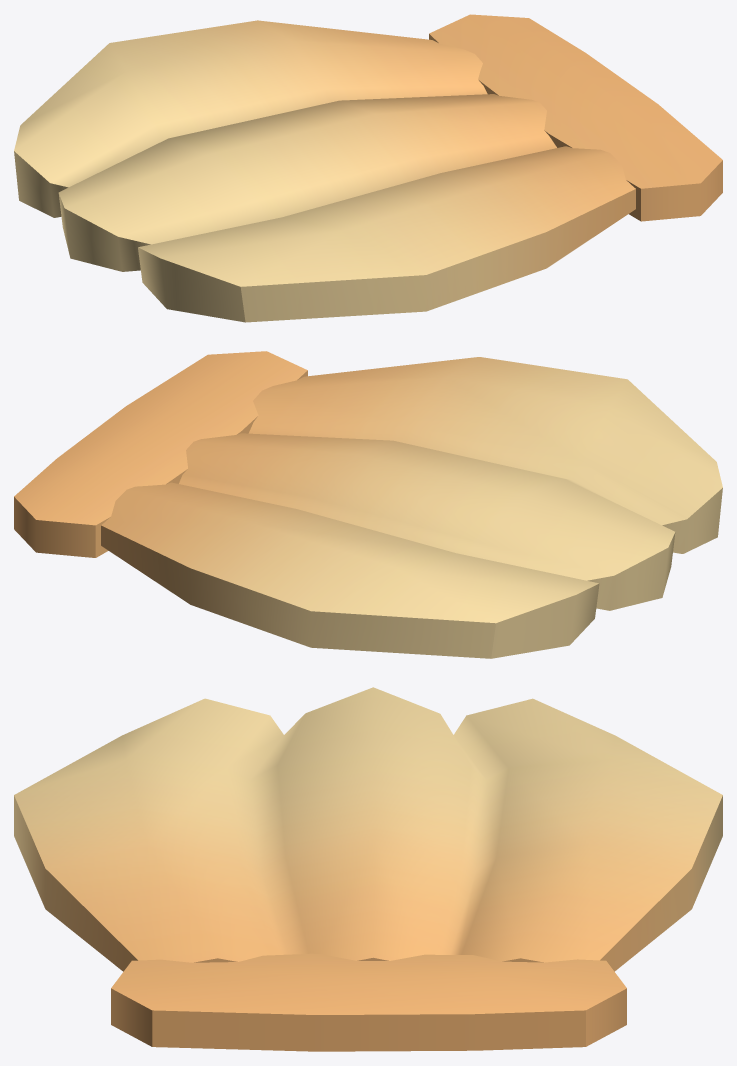
Rendered from Msh_Concha.fbx.
3 views of the same model, one above another, from view 1: azimuth 30°, elevation 25°; view 2: azimuth 150°, elevation 25°; view 3: azimuth 270°, elevation 25° (orthographic). The views are drawn at different scales.
Visible parts, largest first — view 1: Msh_Concha001, Msh_Concha000; view 2: Msh_Concha001, Msh_Concha000; view 3: Msh_Concha001, Msh_Concha000.
Part boxes in pixels (x1,y1,x2,y2): Msh_Concha001: (14,20,635,322); Msh_Concha000: (429,14,722,221); Msh_Concha001: (101,357,722,658); Msh_Concha000: (14,351,307,557); Msh_Concha001: (14,687,722,971); Msh_Concha000: (111,953,626,1051).
Size of the model in its own units: 22.79 by 2.65 by 22.02.
